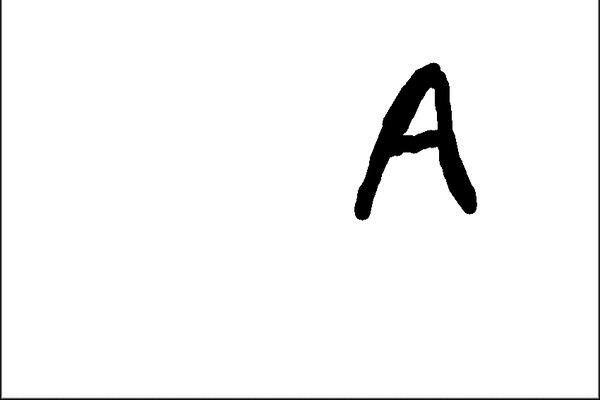A: (346, 50, 484, 232)
